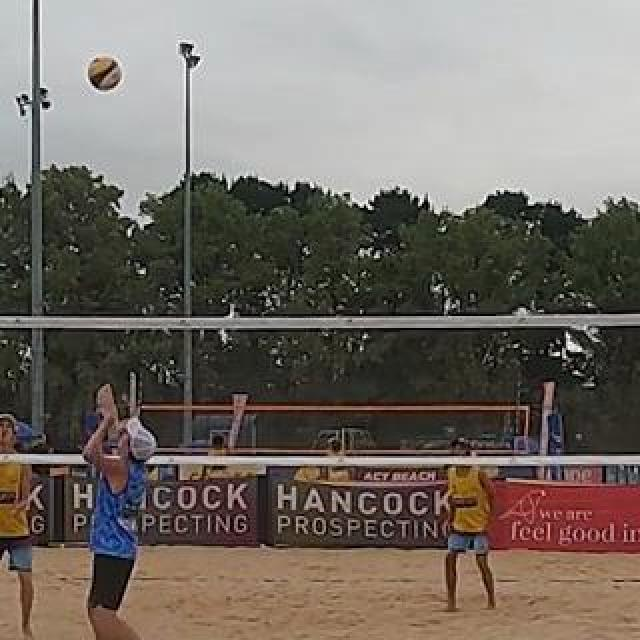volleyball: (87, 56, 123, 90)
